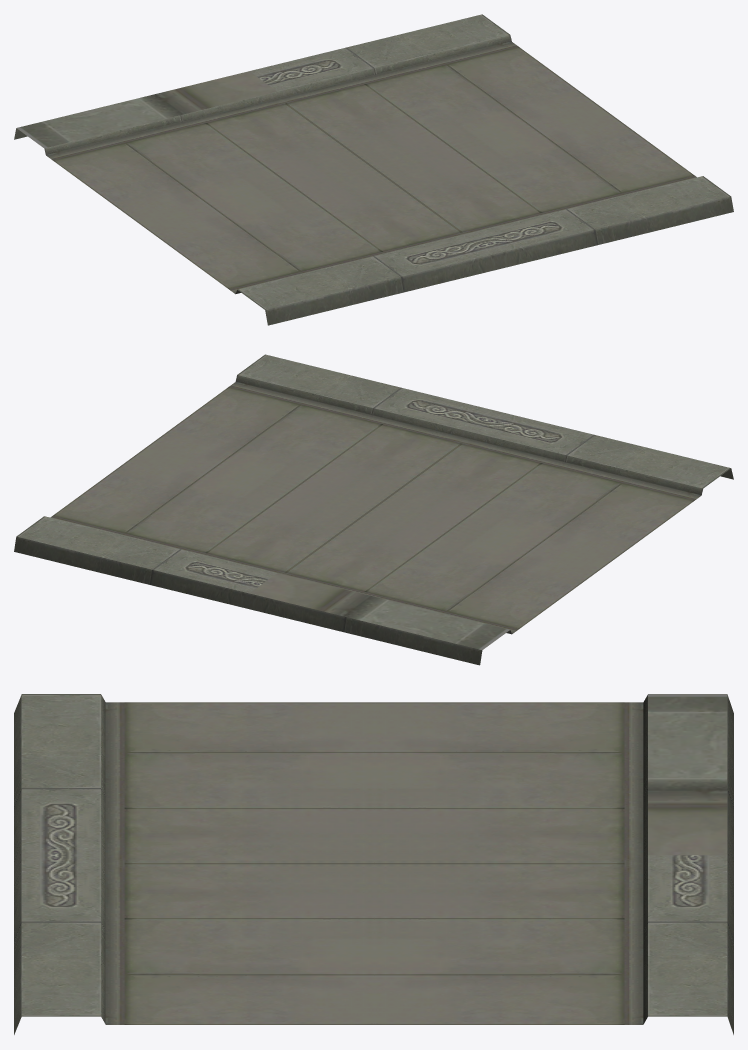
File: jz_lumian01_54_03_5722out.fbx
3 renders of one model, top to bottom at view 1: azimuth 30°, elevation 25°; view 2: azimuth 150°, elevation 25°; view 3: azimuth 270°, elevation 25°, orthographic. The views are drawn at different scales.
Visible parts, largest first — view 1: jz_lumian01; view 2: jz_lumian01; view 3: jz_lumian01.
Part boxes in pixels (x1=…): jz_lumian01: x1=14, y1=14, x2=733, y2=325; jz_lumian01: x1=14, y1=354, x2=733, y2=665; jz_lumian01: x1=14, y1=694, x2=733, y2=1034.
Bounding box in the file's own units: 6.93 × 0.1922 × 6.54.
